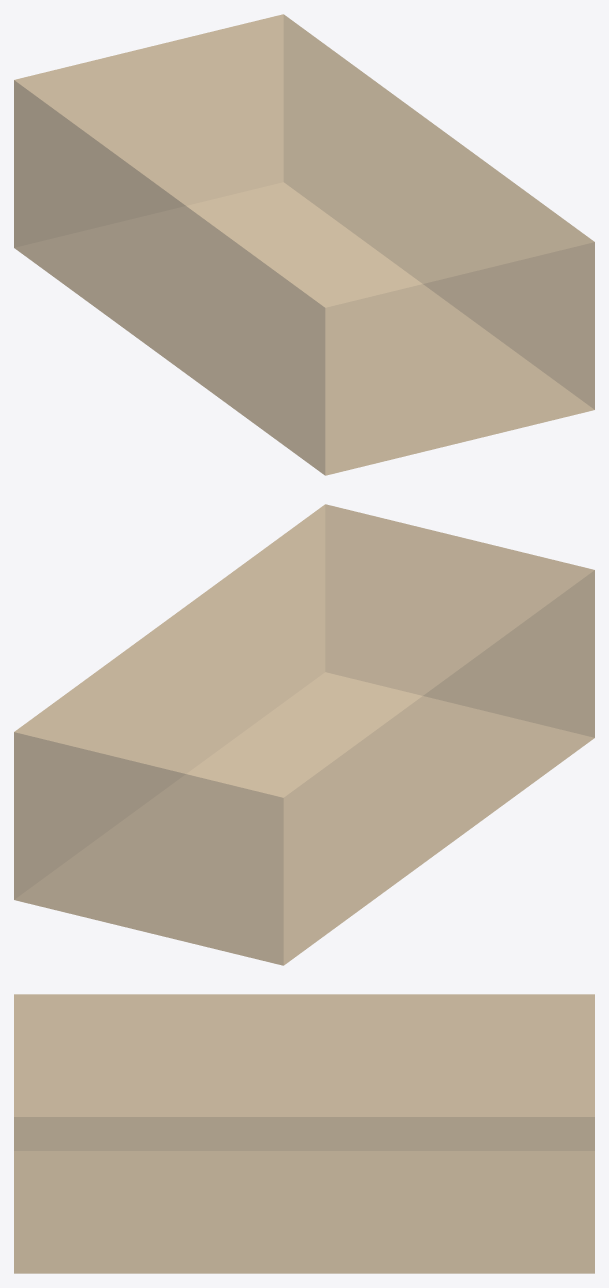
The model's file is blockout.glb.
3 views of the same model, one above another, from view 1: azimuth 30°, elevation 25°; view 2: azimuth 150°, elevation 25°; view 3: azimuth 270°, elevation 25° (orthographic). The views are drawn at different scales.
Parts seen in each view (by area): view 1: C08_ENVELOPE_NOT_FINAL_MESH; view 2: C08_ENVELOPE_NOT_FINAL_MESH; view 3: C08_ENVELOPE_NOT_FINAL_MESH.
Part boxes in pixels (x1,y1,x2,y2): C08_ENVELOPE_NOT_FINAL_MESH: (14, 14, 594, 475); C08_ENVELOPE_NOT_FINAL_MESH: (14, 504, 594, 965); C08_ENVELOPE_NOT_FINAL_MESH: (14, 994, 594, 1273).
Bounding box in the file's own units: 4.2 × 2.5 × 8.4.
